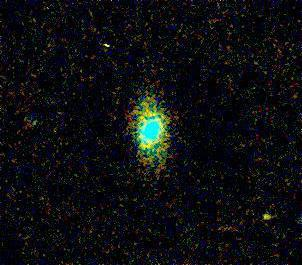star: (251, 202, 281, 232)
